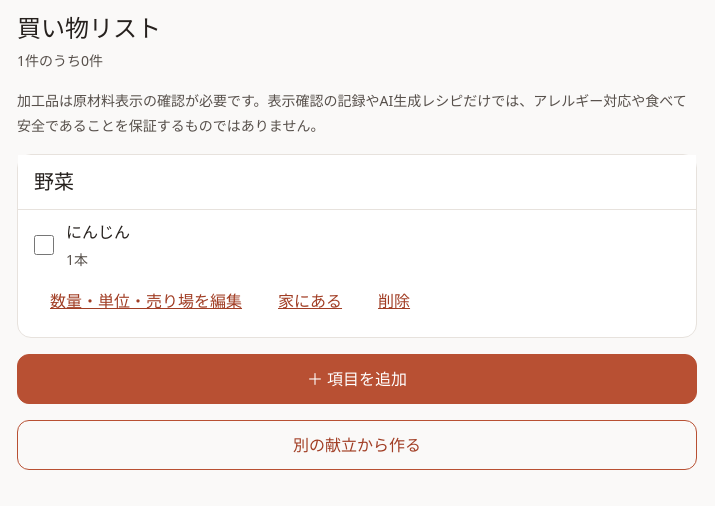
Test: ShoppingListPage warnings and grouping › hides server-removed by default and shows confirm only after successful remove
This screenshot has width=715, height=506.
Click the button "削除" at (394, 301), box [362,277,426,325]
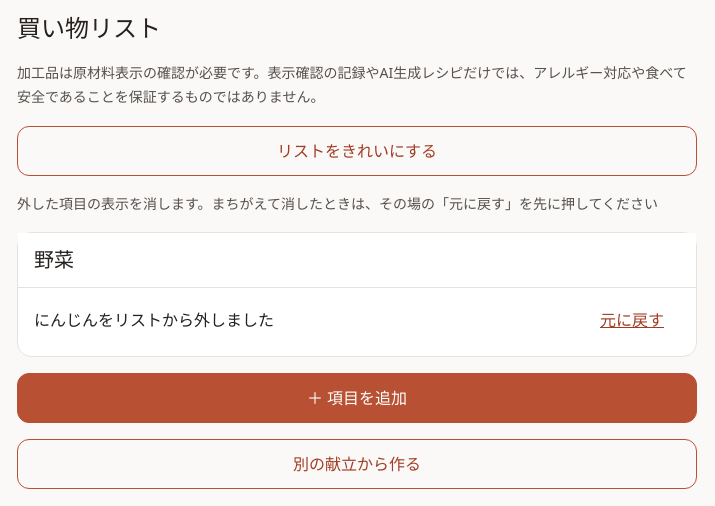
Expected: the text "にんじんをリストから外しました" is shown, [34,306,274,334]
Expected: the text "外した項目の表示を消します。まちがえて消したときは、その場の「元に戻す」を先に押してください" is shown, [17,192,697,216]
Click the button "リストをきれいにする" at (357, 151), box [17,126,697,176]
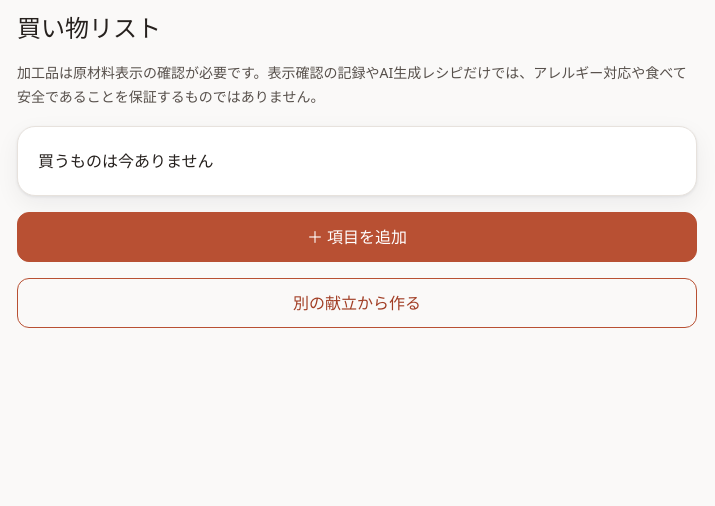
Expected: the text "にんじんをリストから外しました" is gone
